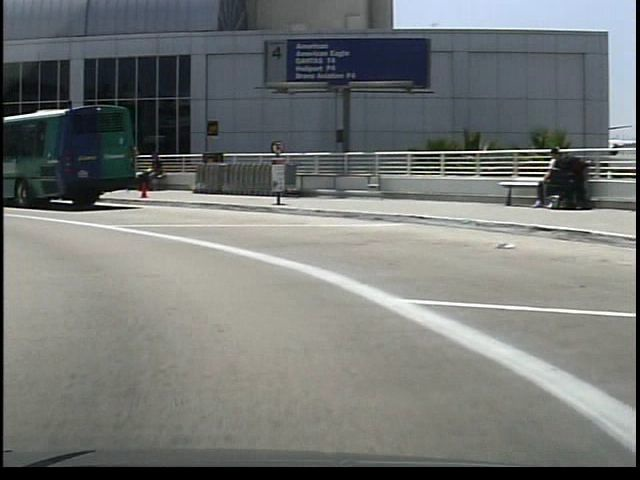person: (137, 149, 164, 195)
